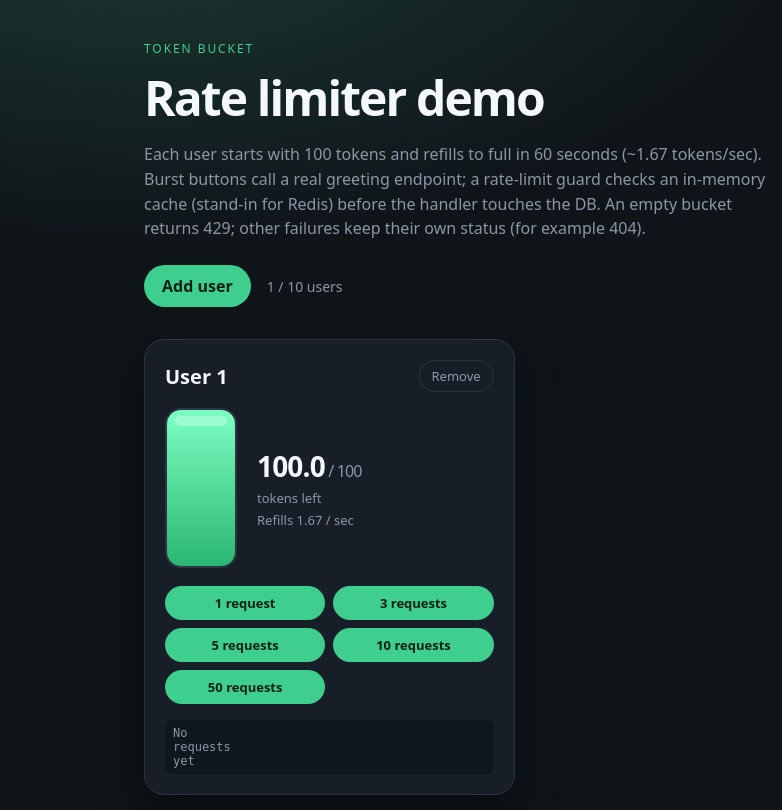
App › keeps only the last 10 hits, newest first, after a 50-request burst
Expected: the heading "User 1" is shown, [165, 363, 228, 390]
Click the button "50 requests" at [245, 687], box [165, 670, 325, 704]
(page scrolled)
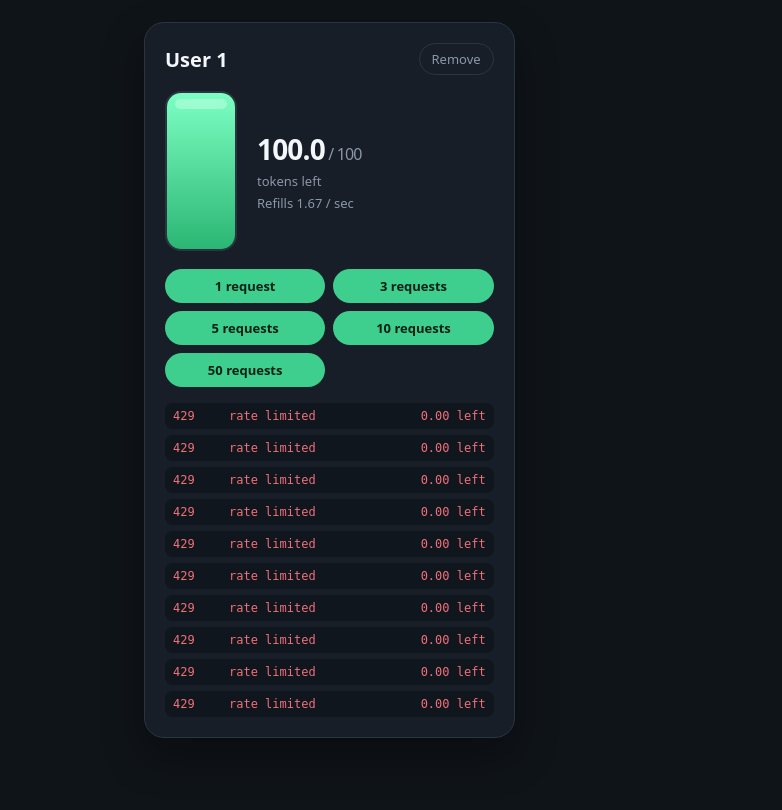
Expected: the number of list items is 10
Expected: the 1st list item "429 rate limited 0.00 left" is shown, [165, 403, 494, 429]
Expected: the 10th list item "429 rate limited 0.00 left" is shown, [165, 691, 494, 717]
